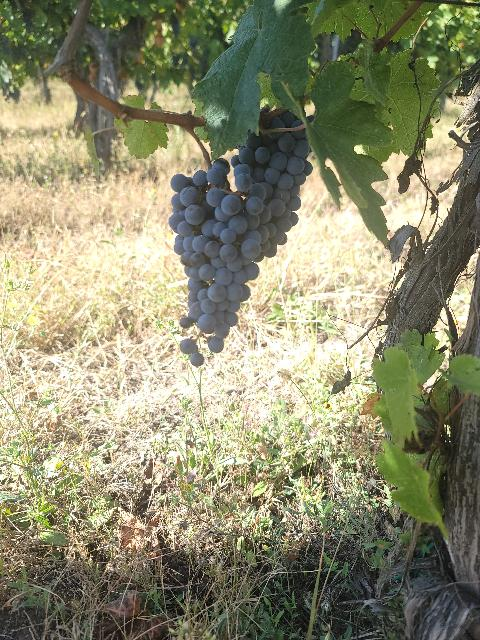grapes: (169, 159, 259, 366), (231, 111, 312, 261)
